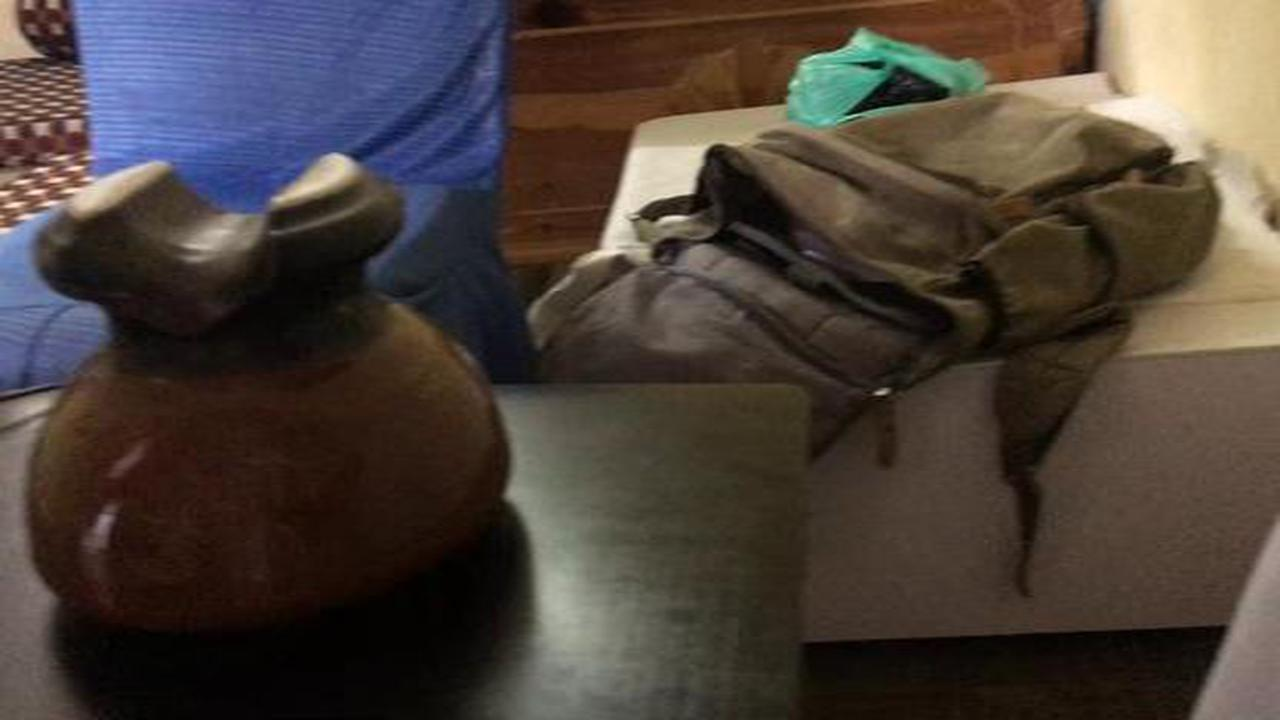insulator_pin: (13, 137, 530, 656)
